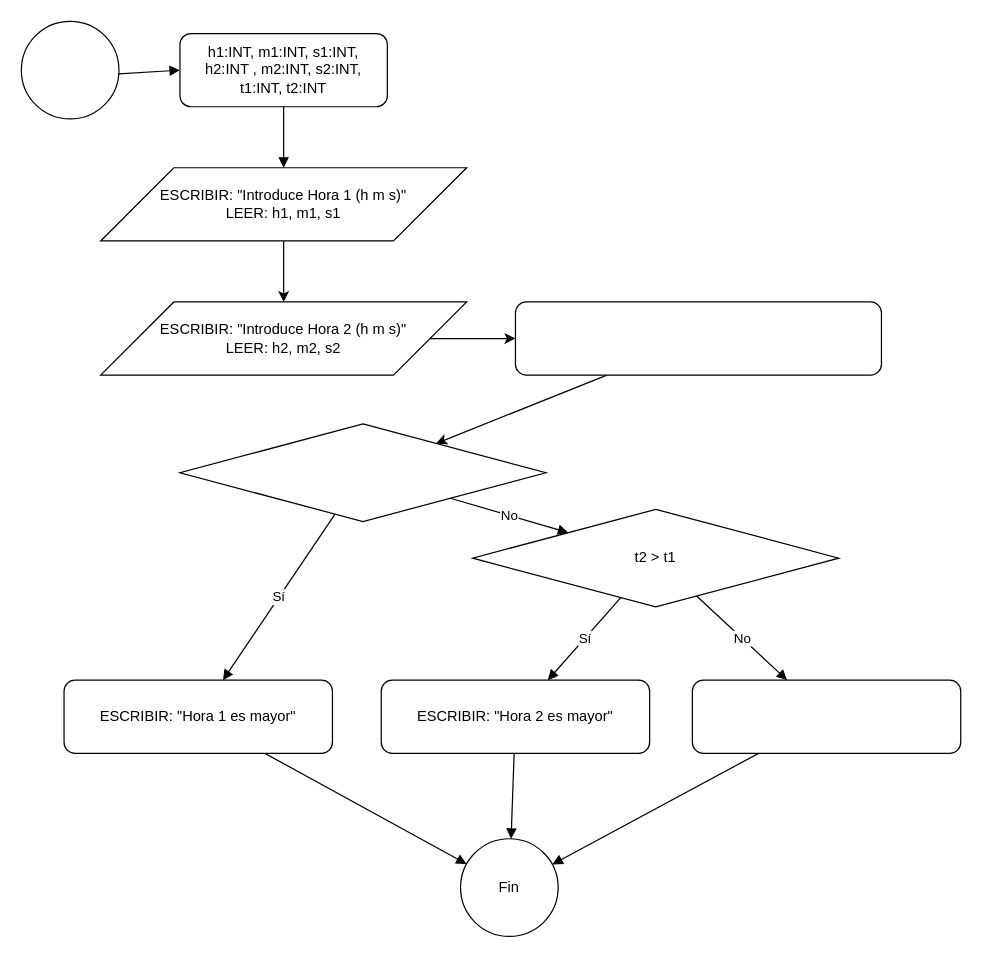
Image size: 982x958. Some labels were removed from this diagram. Each missing label, with the box of its shape:
ESCRIBIR: "Las horas son iguales": (691, 679, 961, 753)
Inicio: (20, 20, 119, 119)
t1 > t2: (179, 423, 546, 522)
t1 ← h1*3600 + m1*60 + s1 t2 ← h2*3600 + m2*60 + s2: (514, 301, 881, 375)
